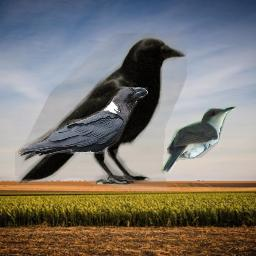Crow: (15, 33, 187, 191), (18, 87, 148, 157)
Cuckoo: (161, 106, 237, 174)
